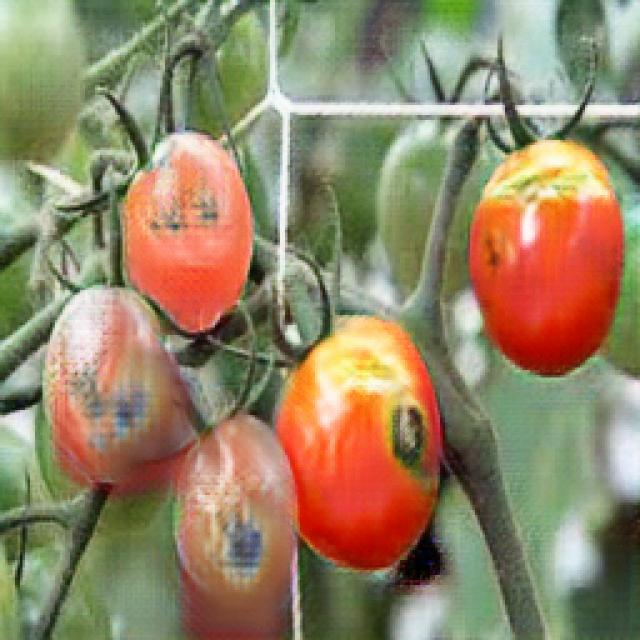overripe tomato: (276, 317, 444, 577), (466, 139, 629, 378), (39, 289, 173, 484), (118, 134, 255, 324), (177, 417, 293, 609)
